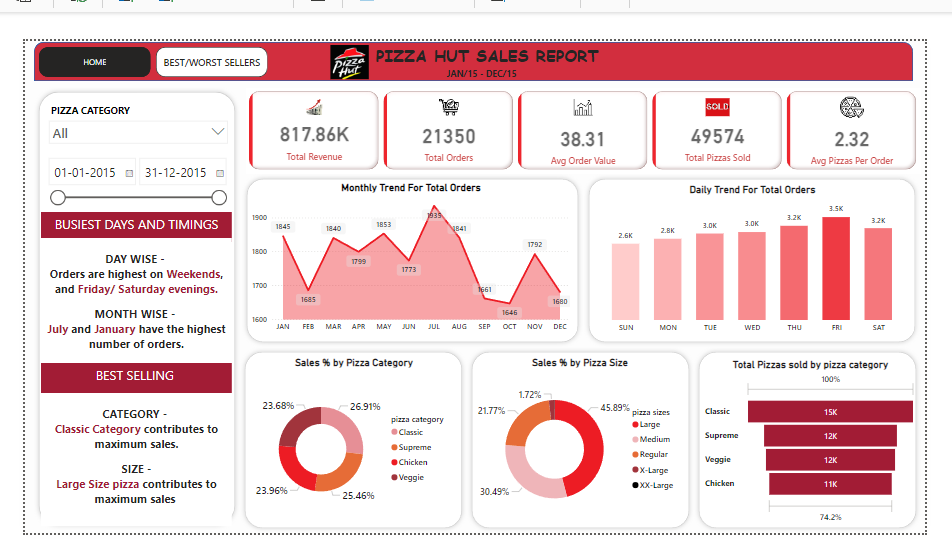

What the dashboard file says about the page in this screenshot:
{"tool":"powerbi","page":{"name":"HOME","canvas":[1500,820],"ordinal":0},"visuals":[{"type":"cardVisual","fields":{"Data":["pizza_sales.Total Revenue","pizza_sales.Total Orders","pizza_sales.Avg Order Value","pizza_sales.Total Pizzas Sold","pizza_sales.Avg Pizzas Per Order"]},"box":[368.3,78.3,1125,143.3],"z":0},{"type":"shape","box":[15,1.7,1465,65],"z":1000},{"type":"textbox","box":[571.7,1.7,396.7,50],"z":2000},{"type":"textbox","box":[690,38.3,141.7,31.7],"z":3000},{"type":"image","box":[500,1.7,81.7,66.7],"z":4000},{"type":"shape","box":[361.7,221.7,568.3,288.3],"z":5000},{"type":"shape","box":[931.7,221.7,560,288.3],"z":6000},{"type":"columnChart","title":"Daily Trend For Total Orders","fields":{"Category":["pizza_sales.order Day"],"Y":["pizza_sales.Total Orders"]},"box":[945,236.7,535,258.3],"z":7000},{"type":"areaChart","title":"Monthly Trend For Total Orders","fields":{"Category":["pizza_sales.order Month"],"Y":["pizza_sales.Total Orders"]},"box":[373.3,233.3,540,260],"z":8000},{"type":"shape","box":[358.3,510,378,310],"z":9000},{"type":"shape","box":[15,76.7,343.3,738.3],"z":10000},{"type":"shape","box":[736.7,510,378.3,310],"z":11000},{"type":"shape","box":[1115,510,378.3,310],"z":12000},{"type":"donutChart","title":" Sales % by Pizza Category","fields":{"Category":["pizza_sales.pizza_category"],"Y":["pizza_sales.Total Revenue"]},"box":[371.7,525,353.3,291.7],"z":13000},{"type":"donutChart","title":" Sales % by Pizza Size","fields":{"Category":["pizza_sales.pizza_size"],"Y":["pizza_sales.Total Revenue"]},"box":[748.3,525,353.3,291.7],"z":14000},{"type":"funnel","title":"Total Pizzas sold by pizza category","fields":{"Category":["pizza_sales.pizza_category"],"Y":["pizza_sales.Total Pizzas Sold"]},"box":[1128.3,528.3,361.7,280],"z":15000},{"type":"textbox","box":[26.7,285,318.3,50],"z":16000},{"type":"textbox","box":[26.7,328.3,318.3,200],"z":17000},{"type":"textbox","box":[26.7,536.7,318.3,50],"z":18000},{"type":"textbox","box":[26.7,586.7,318.3,221.7],"z":19000},{"type":"slicer","fields":{"Values":["pizza_sales.pizza_category"]},"box":[30,100,318.3,90],"z":20000},{"type":"slicer","fields":{"Values":["pizza_sales.order_date"]},"box":[26.7,185,318.3,100],"z":21000},{"type":"pageNavigator","box":[218.3,10,186.7,50],"z":21001},{"type":"pageNavigator","box":[23.3,10,186.7,50],"z":21002}]}

Visuals, with their boxes on the page's 1500x820 design canvas (x1, y1, x2, y2). These are canvas units, not pixel positions in the 952x554 screenshot, which may show the page scaled, cropped or inside an application window:
cardVisual - pizza_sales.Total Revenue x pizza_sales.Total Orders: 368 78 1493 222
shape: 15 2 1480 67
textbox: 572 2 968 52
textbox: 690 38 832 70
image: 500 2 582 68
shape: 362 222 930 510
shape: 932 222 1492 510
"Daily Trend For Total Orders" columnChart: 945 237 1480 495
"Monthly Trend For Total Orders" areaChart: 373 233 913 493
shape: 358 510 736 820
shape: 15 77 358 815
shape: 737 510 1115 820
shape: 1115 510 1493 820
" Sales % by Pizza Category" donutChart: 372 525 725 817
" Sales % by Pizza Size" donutChart: 748 525 1102 817
"Total Pizzas sold by pizza category" funnel: 1128 528 1490 808
textbox: 27 285 345 335
textbox: 27 328 345 528
textbox: 27 537 345 587
textbox: 27 587 345 808
slicer - pizza_sales.pizza_category: 30 100 348 190
slicer - pizza_sales.order_date: 27 185 345 285
pageNavigator: 218 10 405 60
pageNavigator: 23 10 210 60
